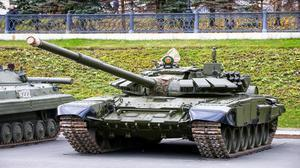t72: (60, 34, 280, 156)
